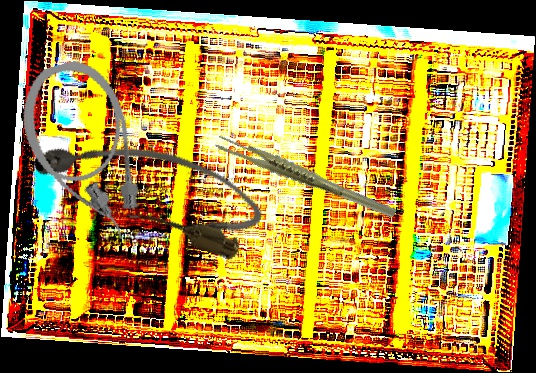Cannula: (24, 107, 272, 266), (9, 51, 157, 257)
Tissue Forceps: (213, 106, 398, 249)
